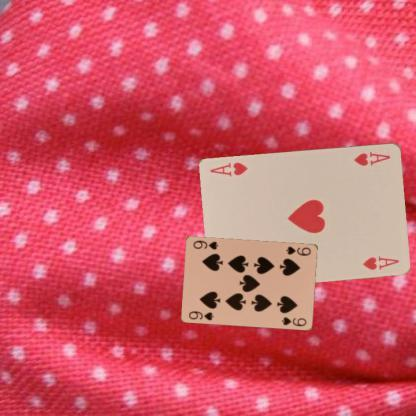9s: (186, 308, 216, 322), (284, 244, 312, 256)
Ah: (352, 148, 392, 167)
